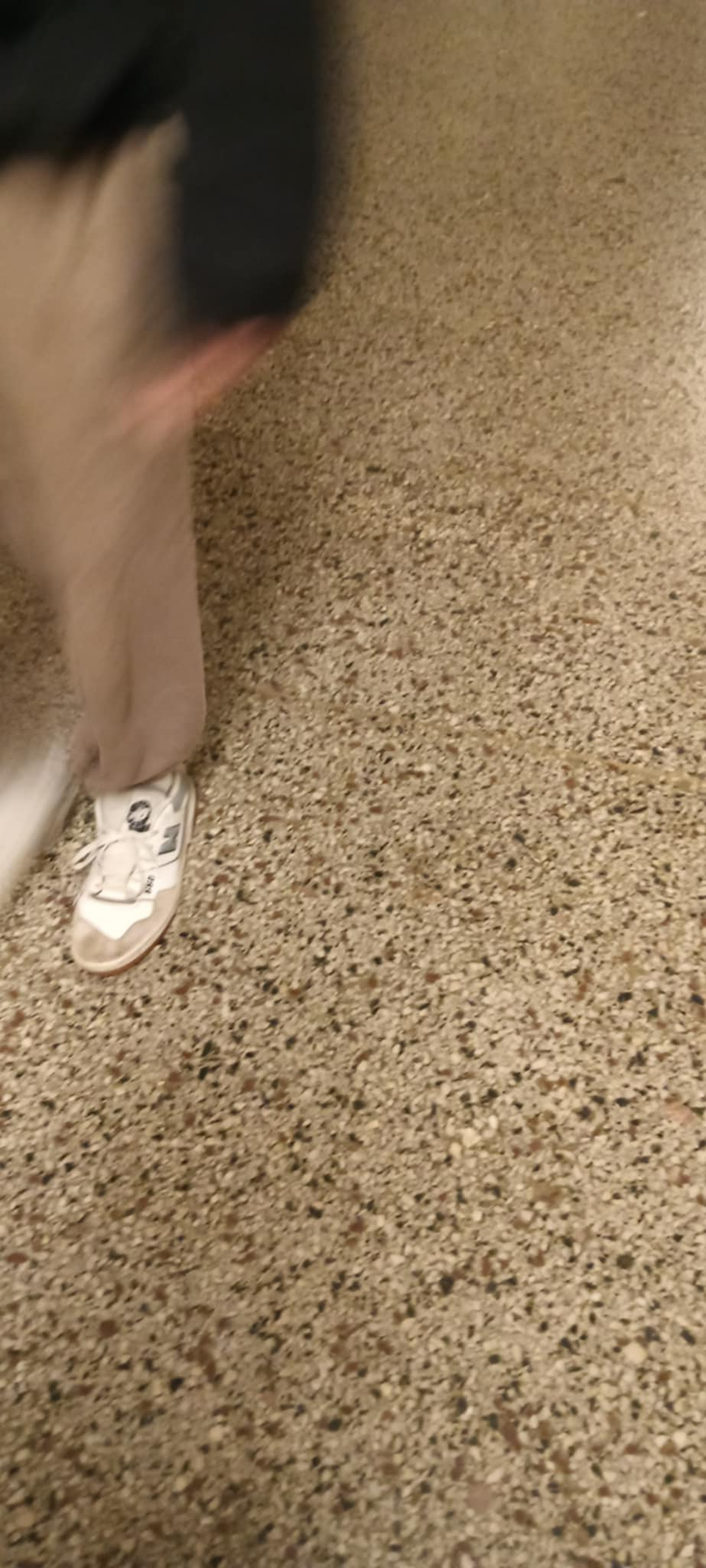new_balance_550_grey: (64, 753, 203, 984)
